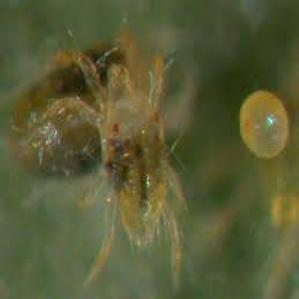spider mite: (42, 39, 211, 290)
